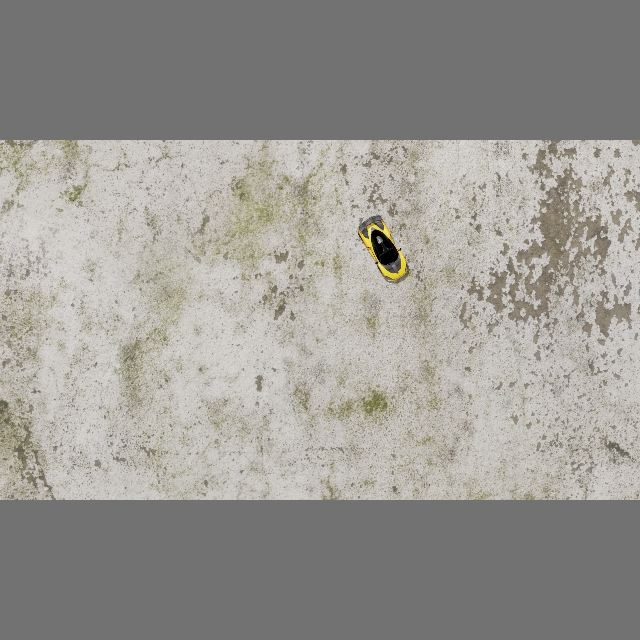car: (353, 211, 415, 286)
